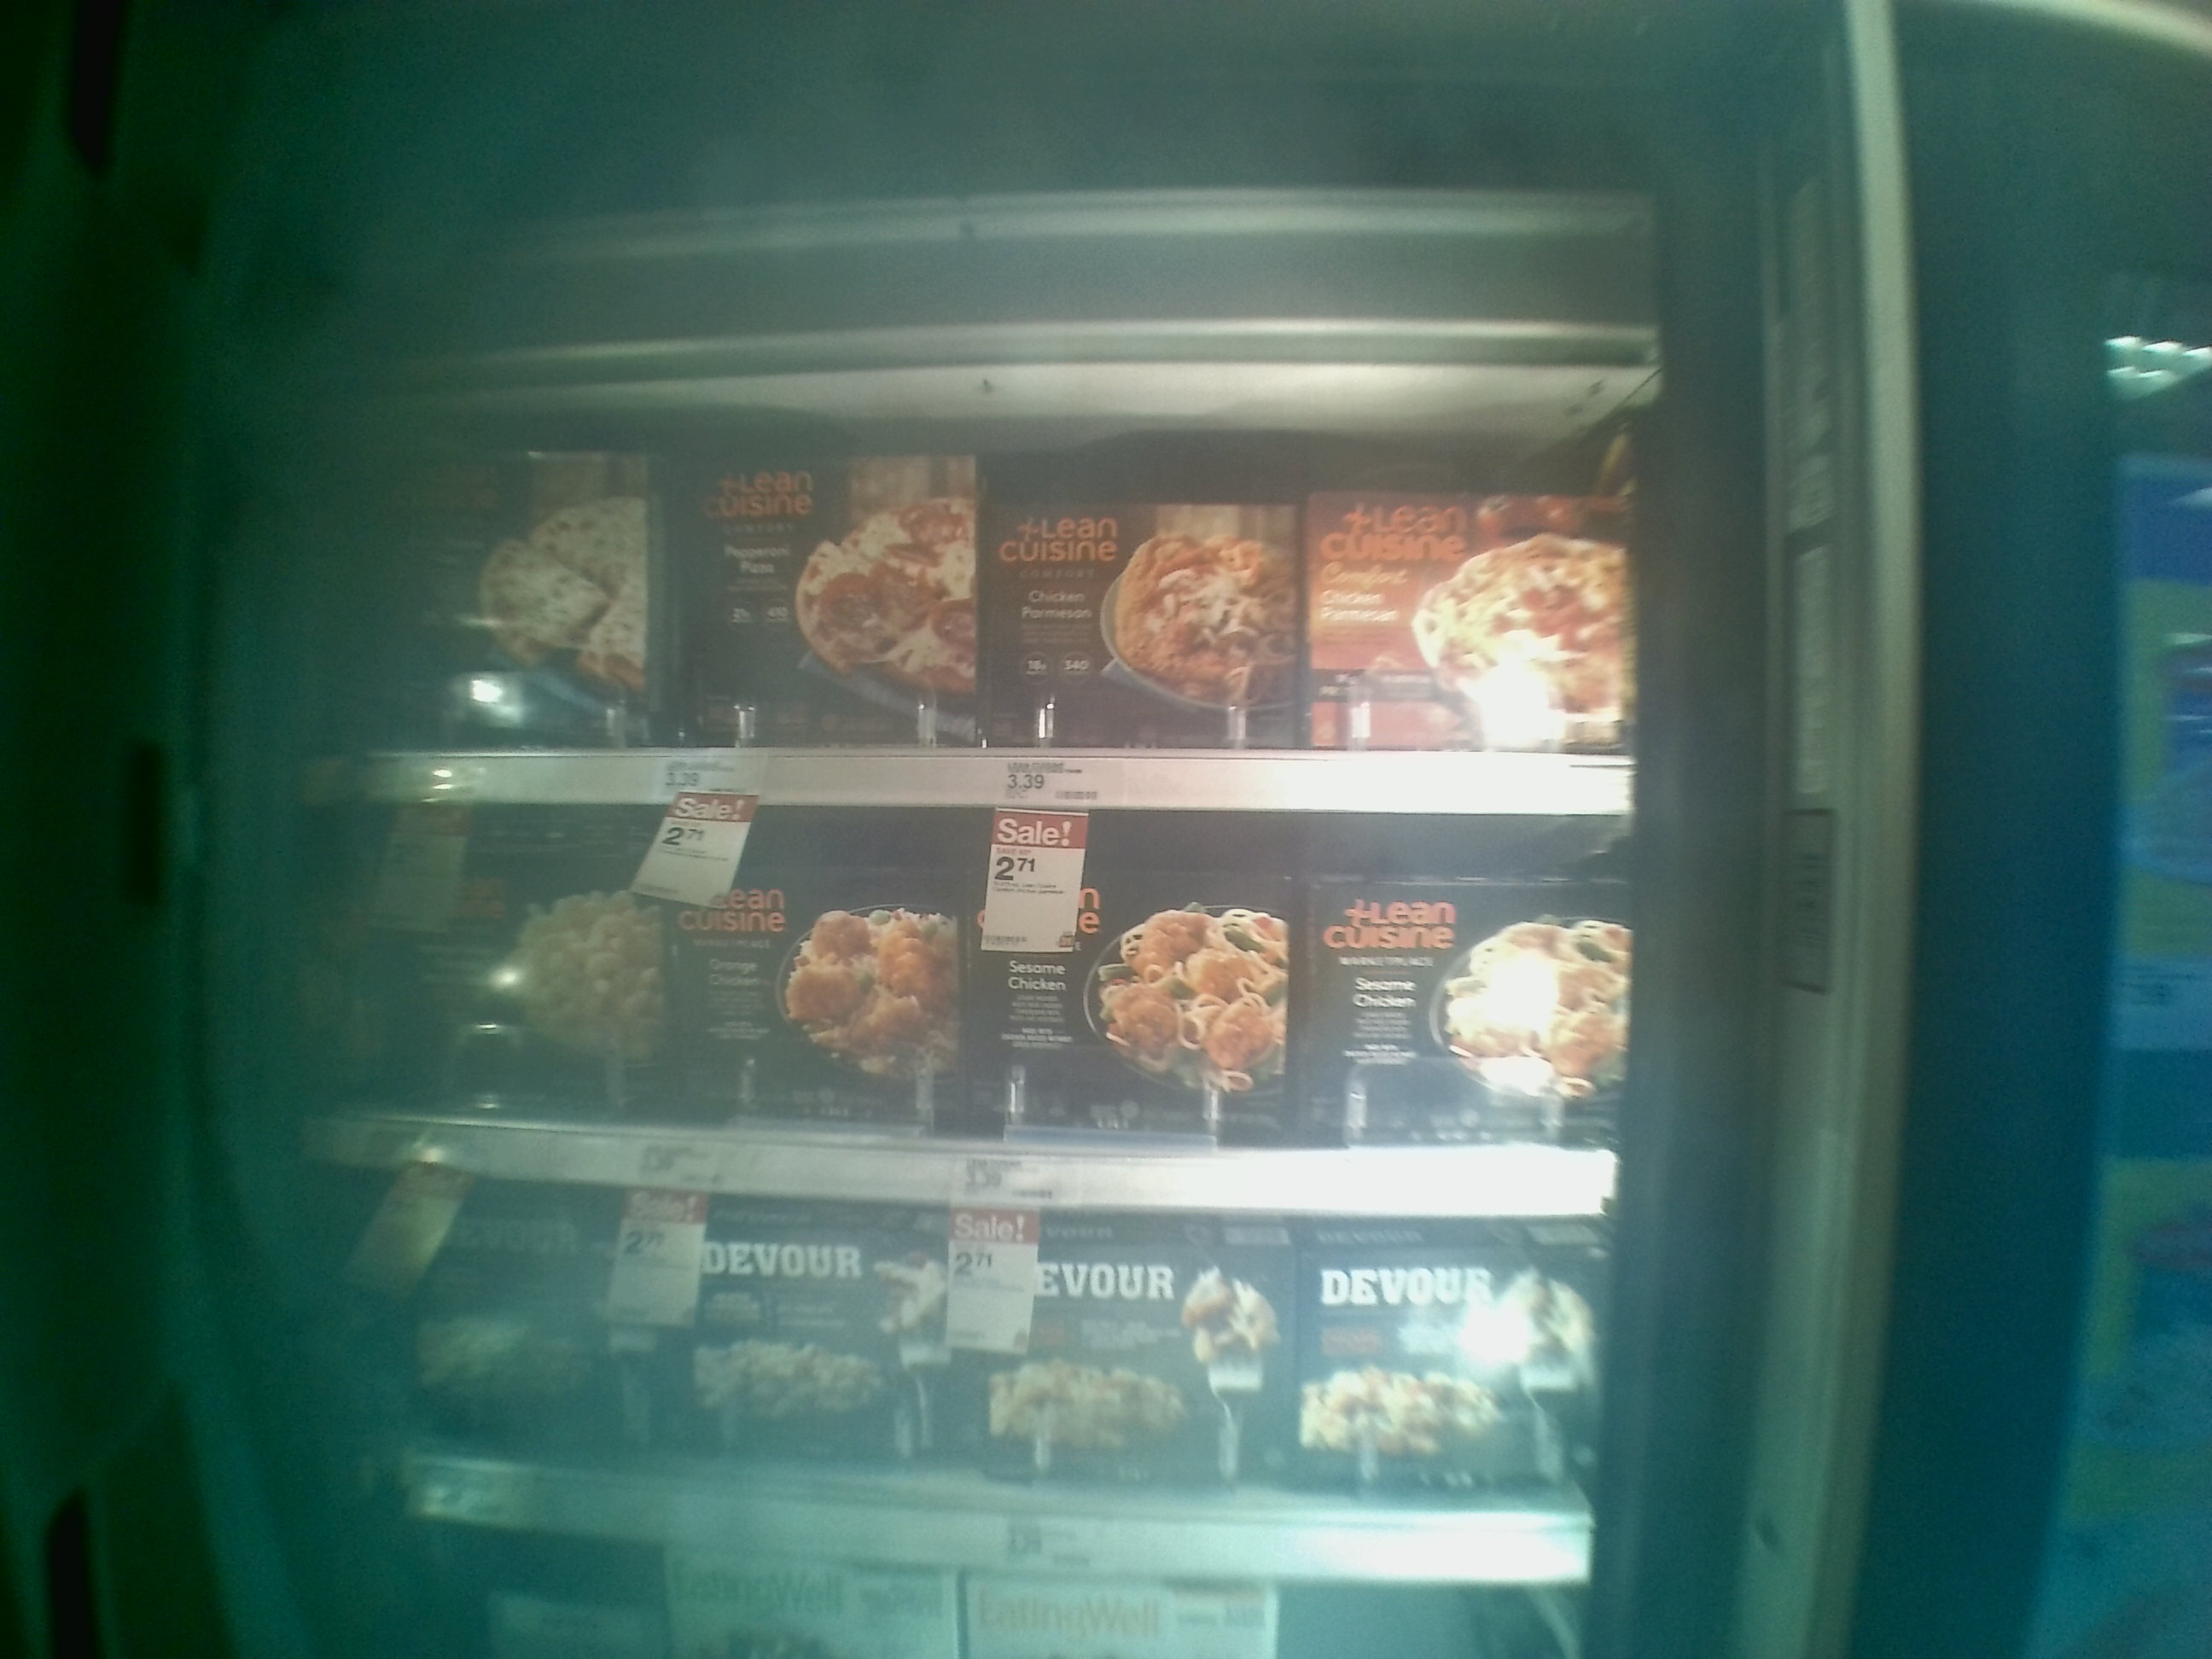shelf: (296, 336, 1641, 812), (298, 798, 1622, 1211), (310, 1162, 1595, 1588)
